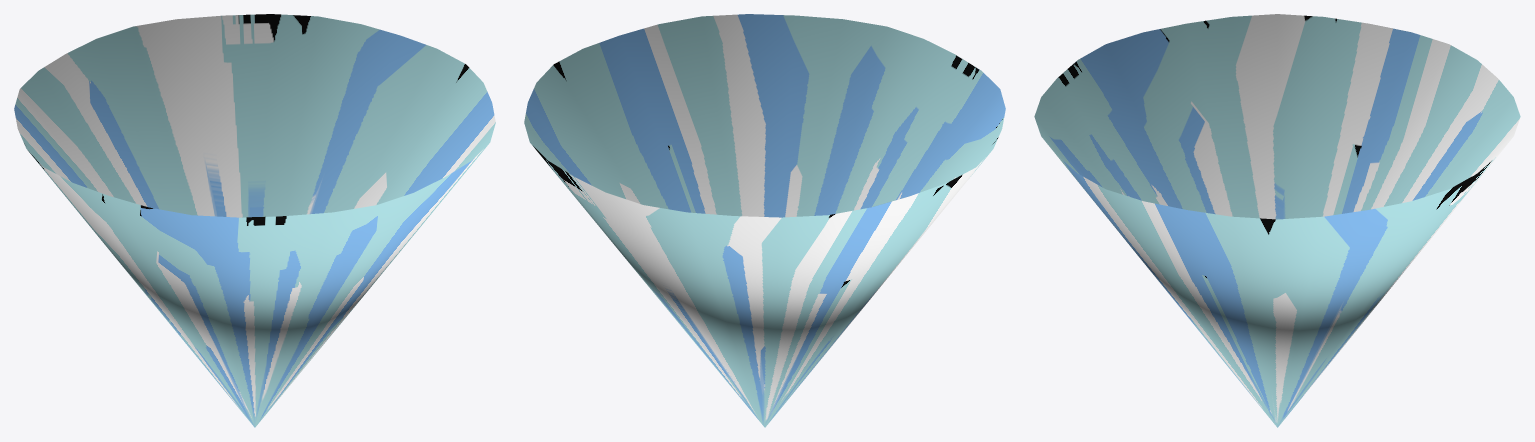
Rendered from FallingEffect.obj.
The picture shows the model from 3 angles, left to right: view 1: azimuth 30°, elevation 25°; view 2: azimuth 150°, elevation 25°; view 3: azimuth 270°, elevation 25°; orthographic projection.
Parts seen in each view (by area): view 1: Cube; view 2: Cube; view 3: Cube.
Part boxes in pixels (bbox=[...]): Cube: bbox=[14, 14, 495, 427]; Cube: bbox=[524, 14, 1005, 427]; Cube: bbox=[1034, 14, 1520, 427].
Size of the model in its own units: 2.83 by 2 by 2.83.
Materials: 1 (1 with a texture image).
